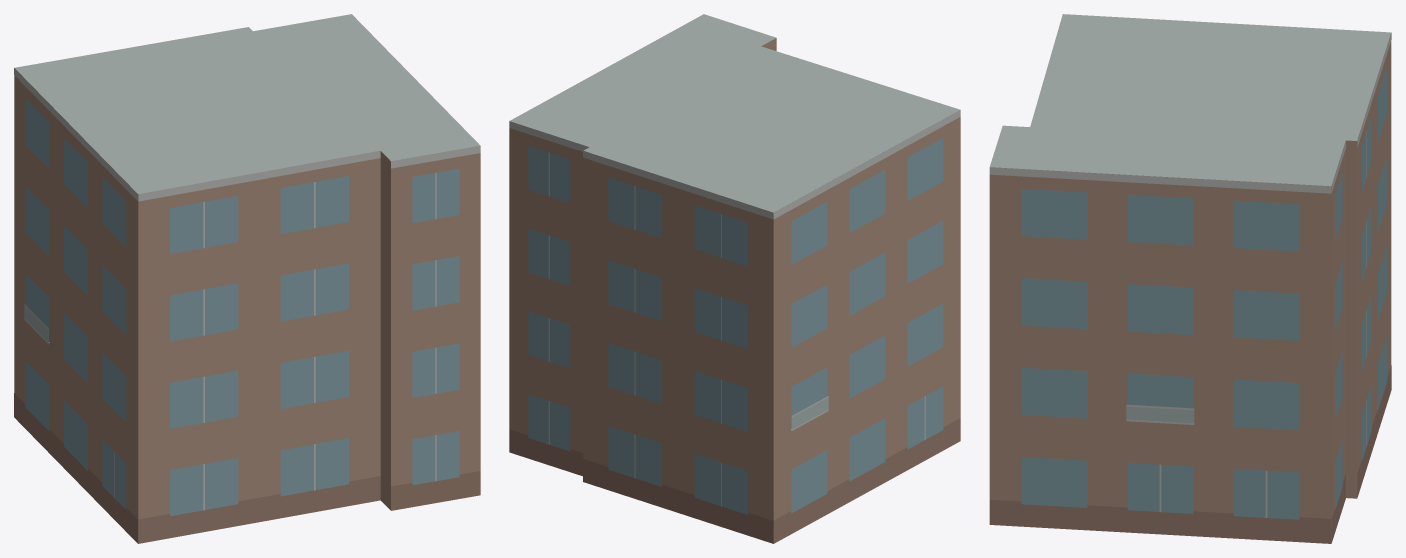
File: survey-upis-32530563.glb
3 views of the same model, side by side, from view 1: azimuth 30°, elevation 25°; view 2: azimuth 150°, elevation 25°; view 3: azimuth 270°, elevation 25° (orthographic). The views are drawn at different scales.
Parts seen in each view (by area): view 1: survey-upis-32530563.tmp; view 2: survey-upis-32530563.tmp; view 3: survey-upis-32530563.tmp.
Boxes of the visible parts, x1,y1,x2,y2 form: survey-upis-32530563.tmp: (14, 14, 480, 543); survey-upis-32530563.tmp: (509, 14, 960, 543); survey-upis-32530563.tmp: (989, 14, 1391, 543).
Bounding box in the file's own units: 12.09 × 11.7 × 11.92.
